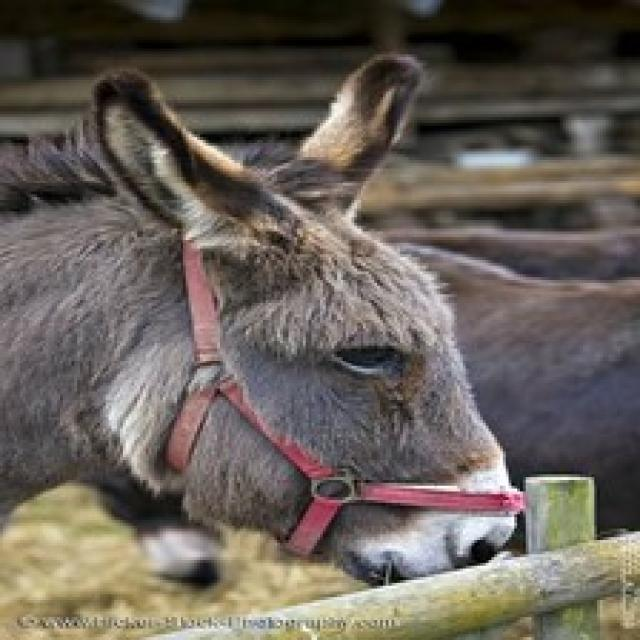Donkey: (0, 70, 551, 640)
